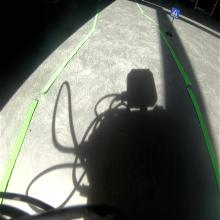crosswalk: (170, 7, 181, 20)
